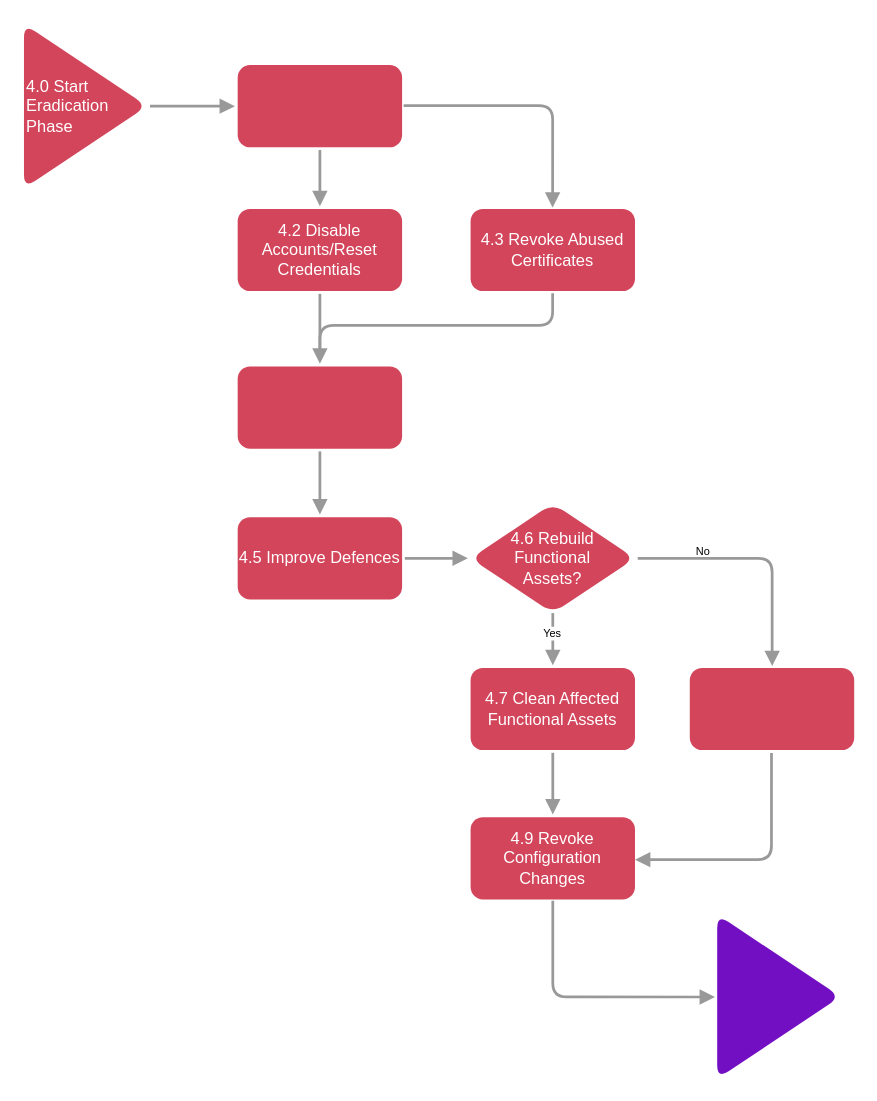
Some shapes in this 877 by 1101 pixel diagram are drawn without their labels. The shapes that lost their labels are listed below. From the top down, each one's centre as x and y in pixels, then its label:
At (319,105): "4.1 Deny Attacker Access".
At (319,407): "4.4 Determine, Store, and Apply Relevant IOCs".
At (771,708): "4.8 Remove Unwanted Software and/or Malware and/or Restore Clean Configuration".
At (778,996): "5.0 Start Recovery Phase".
